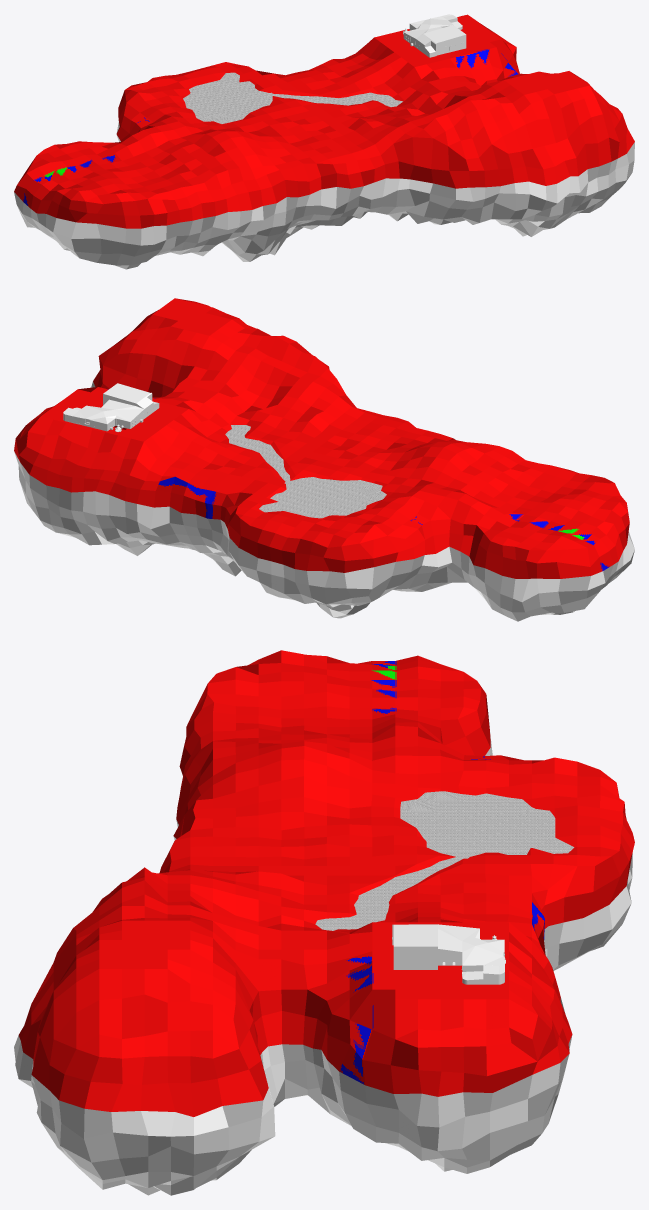
File: island work.gltf
3 views of the same model, one above another, from view 1: azimuth 30°, elevation 25°; view 2: azimuth 150°, elevation 25°; view 3: azimuth 270°, elevation 25° (orthographic). The views are drawn at different scales.
Parts seen in each view (by area): view 1: bottom, aqua, main walls_selection; view 2: bottom, aqua, main walls_selection; view 3: bottom, aqua, main walls_selection.
Part boxes in pixels (box(x1,y1,x2,y2)): bottom: box(14, 14, 634, 269); aqua: box(183, 72, 402, 123); main walls_selection: box(403, 14, 466, 57); bottom: box(14, 298, 634, 621); aqua: box(225, 425, 386, 518); main walls_selection: box(63, 383, 159, 431); bottom: box(14, 650, 634, 1195); aqua: box(315, 791, 574, 930); main walls_selection: box(392, 924, 504, 984).
Size of the model in its own units: 1128 by 356 by 682.
8 materials, 2 textured.
